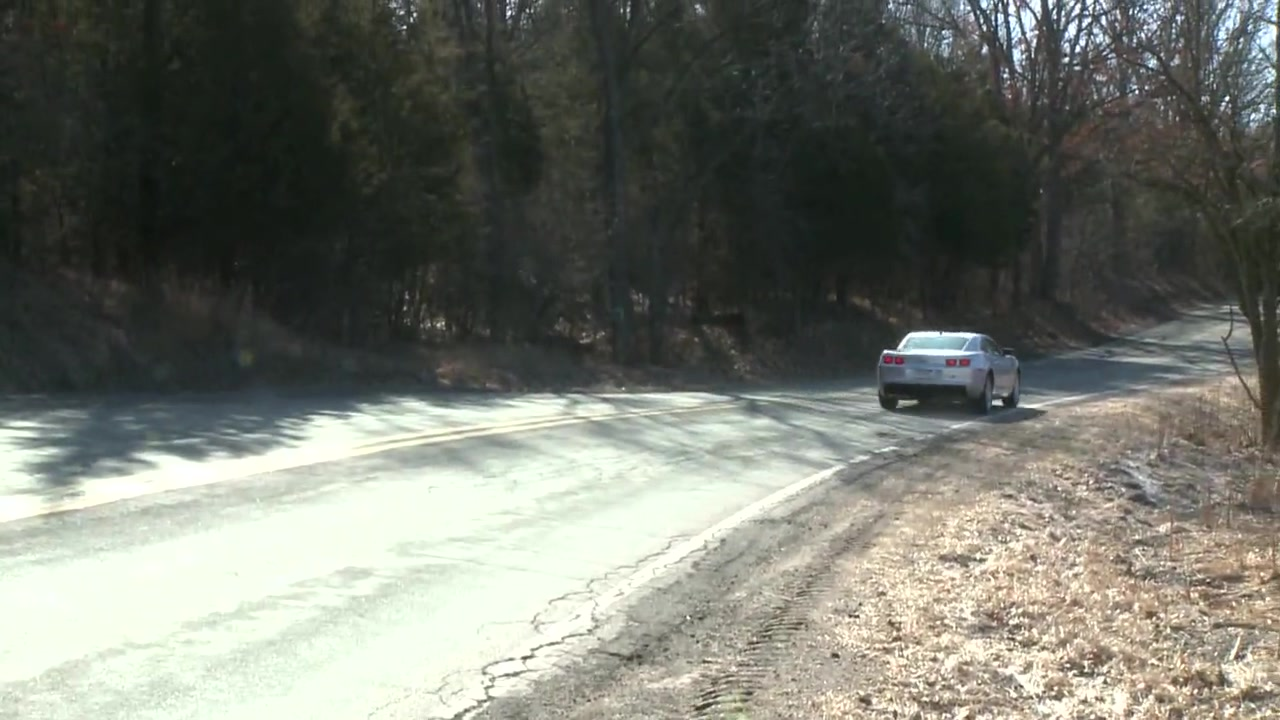car: (877, 330, 1025, 414)
